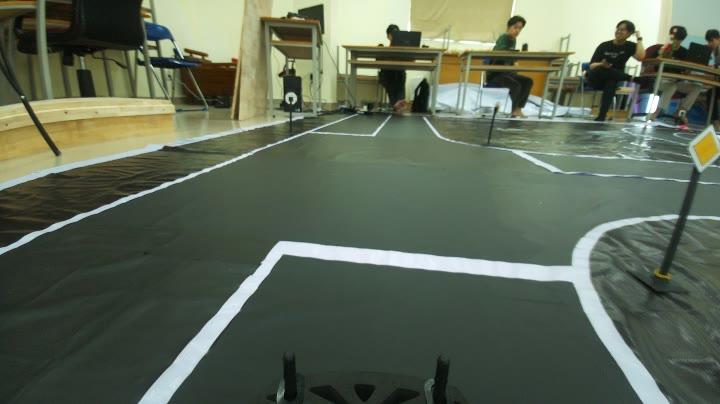priority: (676, 120, 720, 174)
